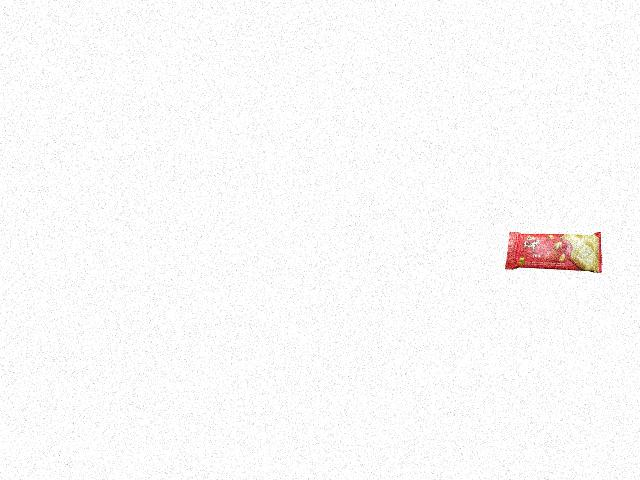chocolate: (498, 229, 602, 279)
